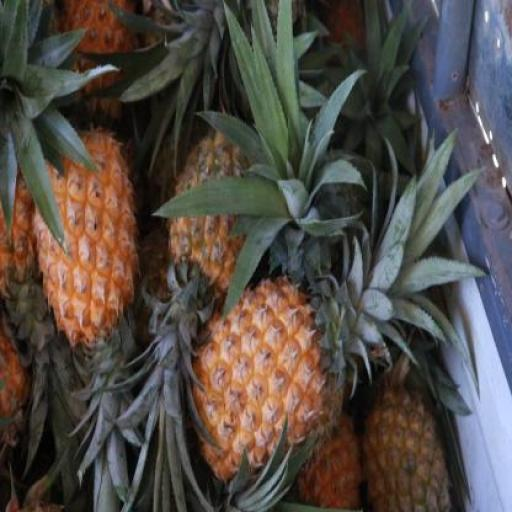------------------------------: (366, 383, 450, 512)
Pineapple - v8 v1: (188, 273, 336, 484), (30, 118, 142, 345)
